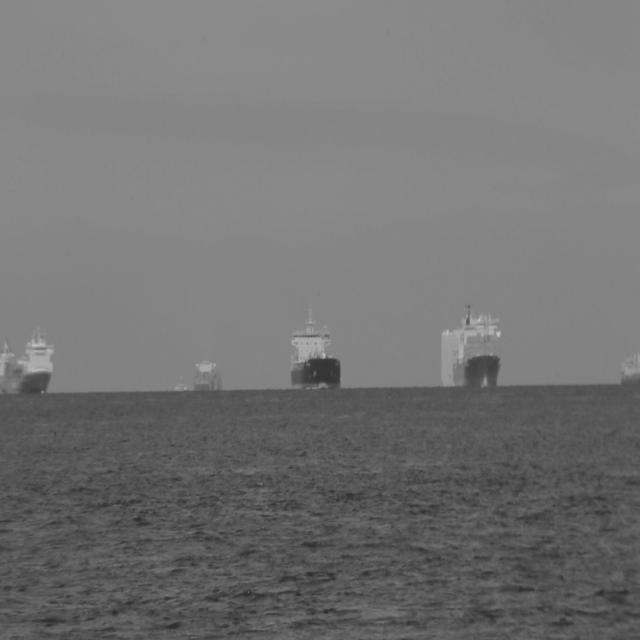ship: (288, 307, 340, 386), (454, 300, 499, 388), (2, 325, 54, 394), (437, 328, 459, 387)
